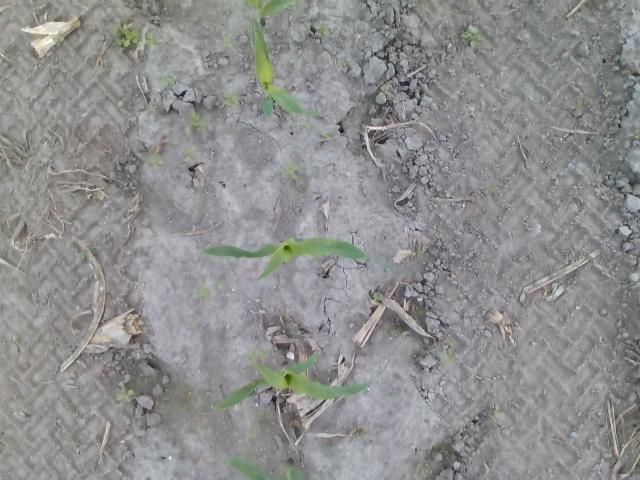Maize: (211, 351, 390, 411), (202, 234, 400, 284), (250, 14, 320, 118), (224, 454, 313, 480), (240, 0, 298, 25)
Weeds: (114, 20, 140, 51), (196, 279, 222, 302), (464, 26, 486, 50), (186, 110, 207, 134), (243, 346, 268, 364), (441, 340, 458, 366), (142, 32, 165, 50), (223, 90, 241, 110), (116, 385, 134, 403), (281, 162, 299, 179), (489, 402, 502, 421), (183, 145, 197, 162), (149, 154, 163, 170), (314, 22, 329, 36), (158, 76, 176, 86), (52, 32, 64, 46), (372, 292, 384, 304), (293, 121, 311, 128), (378, 85, 390, 95), (486, 184, 498, 194), (627, 129, 640, 138), (412, 248, 426, 256), (571, 100, 582, 110), (222, 36, 232, 46), (602, 88, 612, 98), (321, 131, 332, 139), (93, 190, 101, 200), (247, 429, 257, 437), (338, 60, 347, 67), (80, 250, 86, 260)
